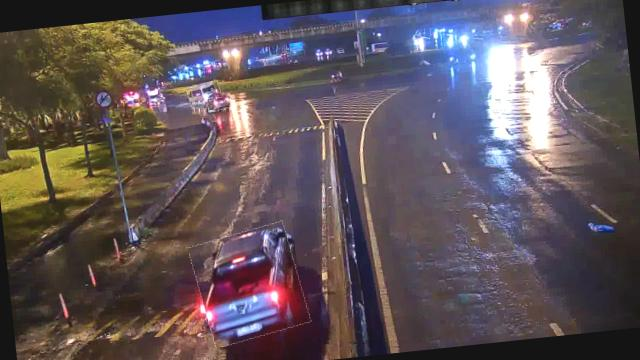Bus: (186, 82, 222, 106)
Car: (191, 224, 308, 346), (206, 92, 233, 112)
